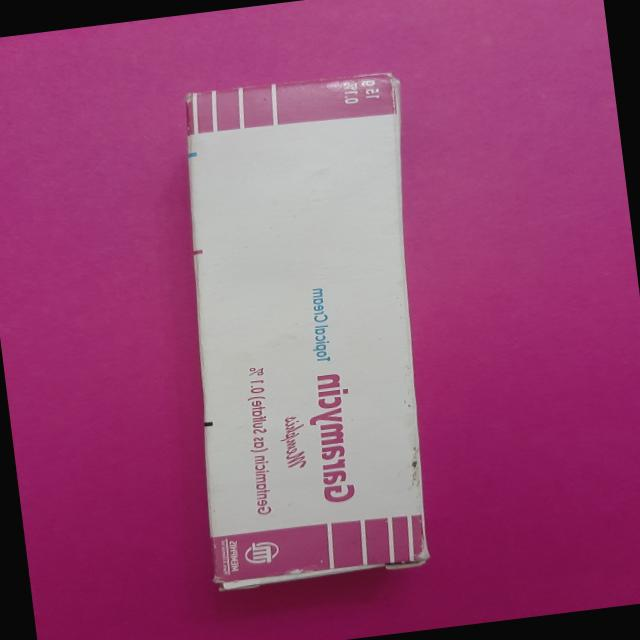medicine_packaging: (114, 56, 482, 619)
